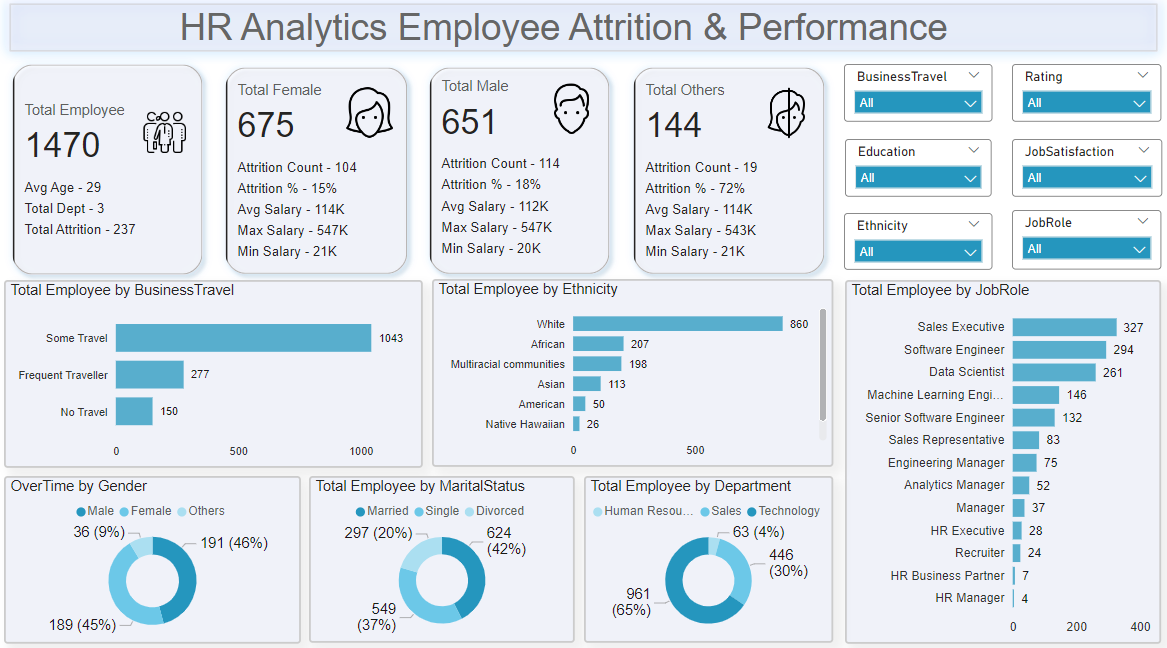

The page's visual inventory and layout, read from the dashboard file:
{"tool":"powerbi","page":{"name":" Page 2","canvas":[1280,720],"ordinal":1},"visuals":[{"type":"cardVisual","fields":{"Data":["Measures Table.Total Others"]},"box":[677.4,67.1,242.6,259.4],"z":0},{"type":"cardVisual","fields":{"Data":["Measures Table.Total Employee"]},"box":[0,63.2,241.3,263.2],"z":1000},{"type":"cardVisual","fields":{"Data":["Measures Table.Total Male"]},"box":[455.5,67.1,231,259.4],"z":2000},{"type":"cardVisual","fields":{"Data":["Measures Table.Total Female"]},"box":[232.3,67.1,232.3,259.4],"z":3000},{"type":"shape","box":[0,0,1280,79.7],"z":4000},{"type":"actionButton","title":"HR Analytics Employee Attrition & Performance","box":[0,13.1,1236.4,54.6],"z":5000},{"type":"slicer","fields":{"Values":["Employee.BusinessTravel"]},"box":[924.3,79.7,161.5,63.3],"z":6000},{"type":"slicer","fields":{"Values":["PerformanceRating.WorkLifeBalance"]},"box":[1107.6,79.7,162.6,63.3],"z":7000},{"type":"slicer","fields":{"Values":["Employee.Ethnicity"]},"box":[924.3,242.3,161.5,62.2],"z":8000},{"type":"slicer","fields":{"Values":["Employee.Education"]},"box":[925.4,161,160.4,63.3],"z":9000},{"type":"slicer","fields":{"Values":["PerformanceRating.JobSatisfaction"]},"box":[1107.6,161.5,163.7,63.3],"z":10000},{"type":"slicer","fields":{"Values":["Employee.JobRole"]},"box":[1107.6,239,162.6,65.5],"z":11000},{"type":"barChart","fields":{"Category":["Employee.BusinessTravel"],"Y":["Measures Table.Total Employee"]},"box":[7.6,315.4,457.2,205.1],"z":12000},{"type":"barChart","fields":{"Category":["Employee.JobRole"],"Y":["Measures Table.Total Employee"]},"box":[925.4,315.4,344.8,397.2],"z":13000},{"type":"barChart","fields":{"Category":["Employee.Ethnicity"],"Y":["Measures Table.Total Employee"]},"box":[474.7,314.3,437.6,205.1],"z":14000},{"type":"donutChart","title":"OverTime by Gender","fields":{"Category":["Employee.Gender"],"Y":["CountNonNull(Employee.OverTime)"]},"box":[7.6,529.2,324.1,183.3],"z":15000},{"type":"donutChart","fields":{"Category":["Employee.MaritalStatus"],"Y":["Measures Table.Total Employee"]},"box":[341,529,290.3,181.9],"z":16000},{"type":"donutChart","fields":{"Category":["Employee.Department"],"Y":["Measures Table.Total Employee"]},"box":[640.5,529.2,271.7,182.2],"z":17000}]}

Visuals, with their boxes in screenshot pixels (x1, y1, x2, y2), scaled from the page's 1280x720 canvas onto the 1167x648 screenshot:
cardVisual - Measures Table.Total Others: <region>618, 60, 839, 294</region>
cardVisual - Measures Table.Total Employee: <region>0, 57, 220, 294</region>
cardVisual - Measures Table.Total Male: <region>415, 60, 626, 294</region>
cardVisual - Measures Table.Total Female: <region>212, 60, 424, 294</region>
shape: <region>0, 0, 1166, 72</region>
"HR Analytics Employee Attrition & Performance" actionButton: <region>0, 12, 1127, 61</region>
slicer - Employee.BusinessTravel: <region>843, 72, 990, 129</region>
slicer - PerformanceRating.WorkLifeBalance: <region>1010, 72, 1158, 129</region>
slicer - Employee.Ethnicity: <region>843, 218, 990, 274</region>
slicer - Employee.Education: <region>844, 145, 990, 202</region>
slicer - PerformanceRating.JobSatisfaction: <region>1010, 145, 1159, 202</region>
slicer - Employee.JobRole: <region>1010, 215, 1158, 274</region>
barChart - Employee.BusinessTravel x Measures Table.Total Employee: <region>7, 284, 424, 468</region>
barChart - Employee.JobRole x Measures Table.Total Employee: <region>844, 284, 1158, 641</region>
barChart - Employee.Ethnicity x Measures Table.Total Employee: <region>433, 283, 832, 467</region>
"OverTime by Gender" donutChart: <region>7, 476, 302, 641</region>
donutChart - Employee.MaritalStatus x Measures Table.Total Employee: <region>311, 476, 576, 640</region>
donutChart - Employee.Department x Measures Table.Total Employee: <region>584, 476, 832, 640</region>
